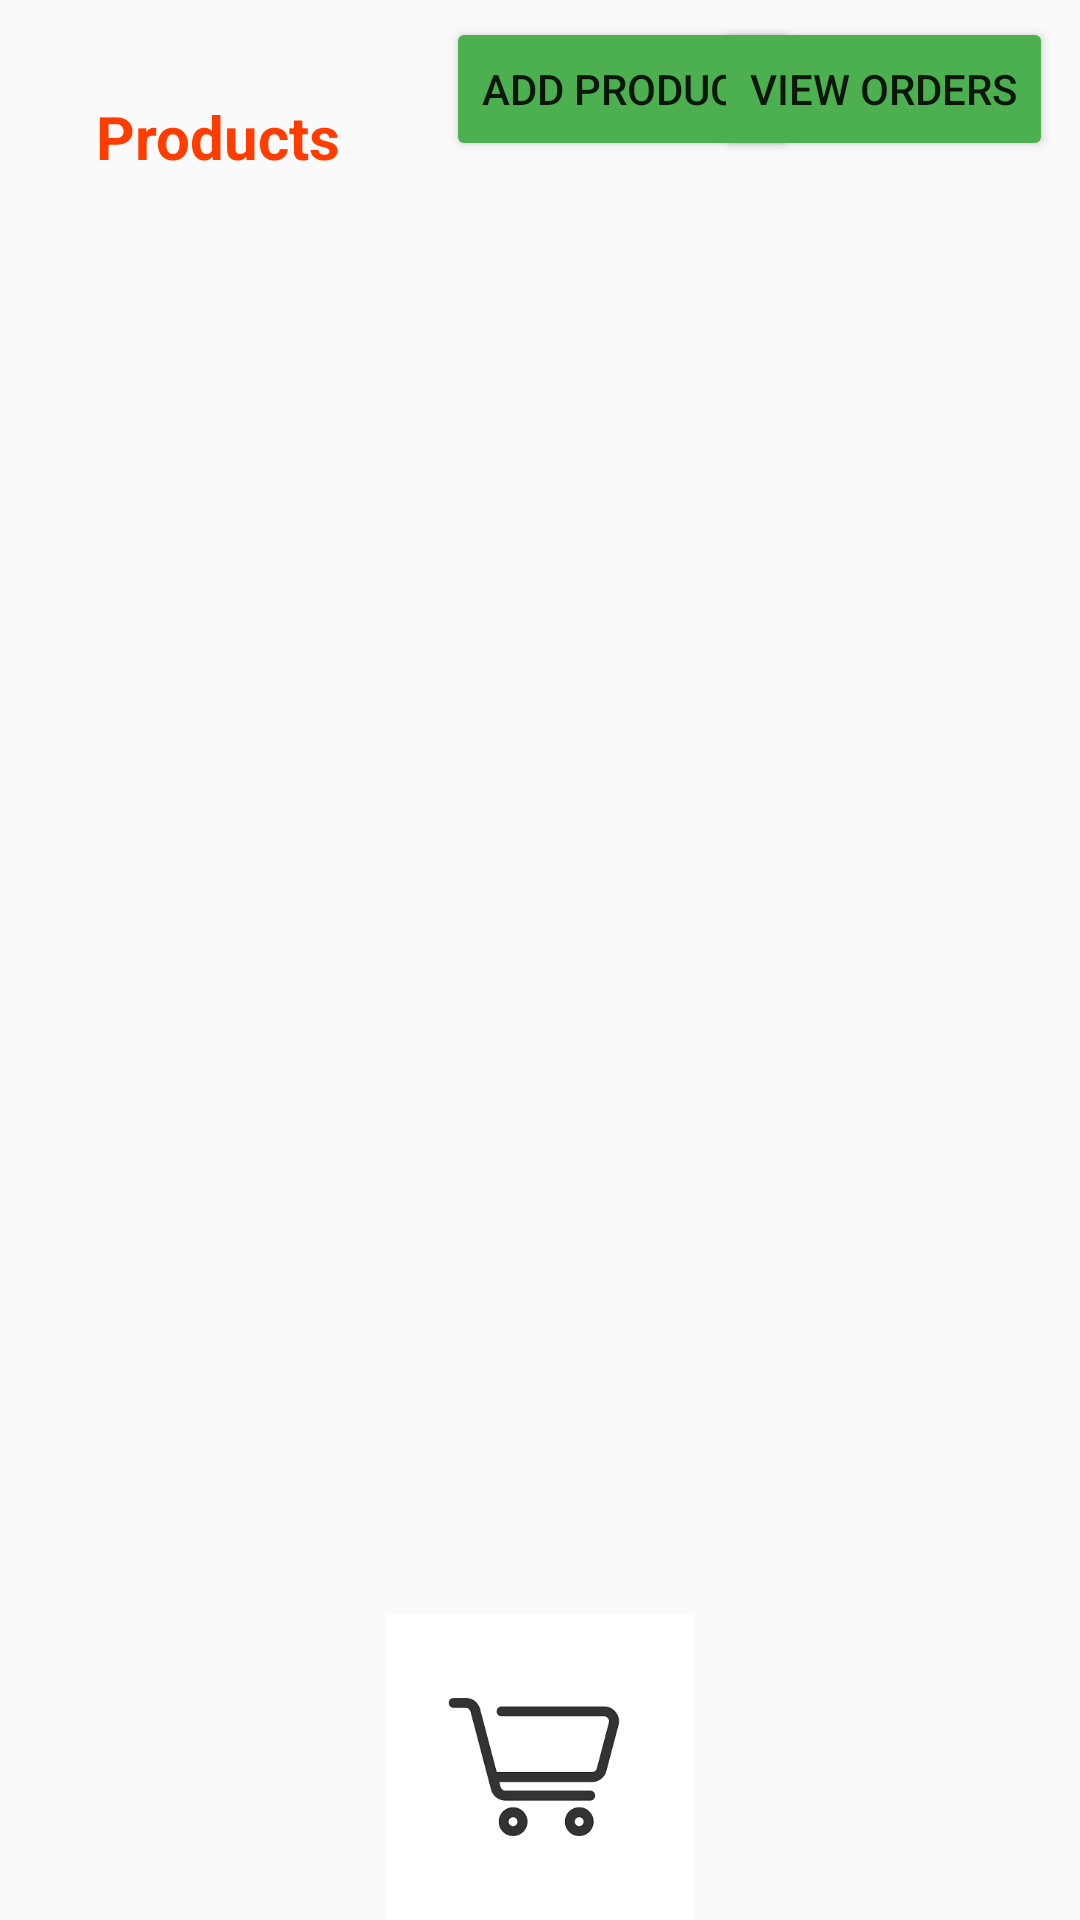

Icon bounding boxes for this 1080px x 1920px phone screenshot, format [left=x1, top=y1, right=x2, bottom=y2]:
cart: [left=449, top=1698, right=620, bottom=1836]
